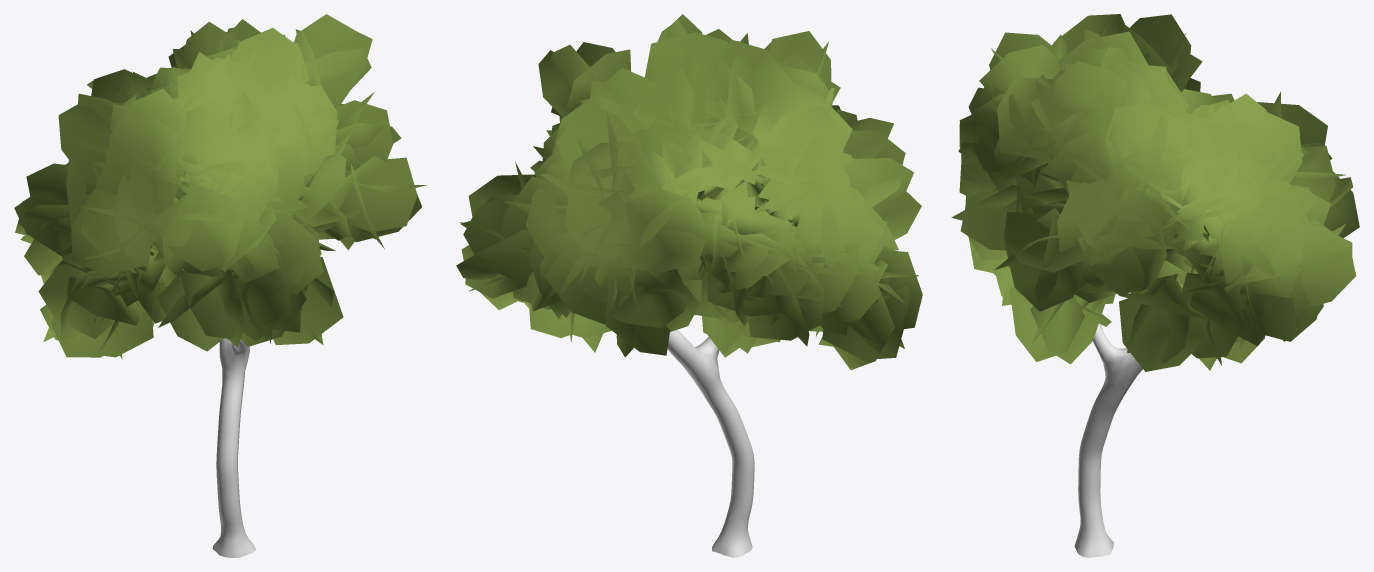
The model's file is tree_test01.fbx.
3 renders of one model, left to right at view 1: azimuth 30°, elevation 25°; view 2: azimuth 150°, elevation 25°; view 3: azimuth 270°, elevation 25°, orthographic. The views are drawn at different scales.
Visible parts, largest first — view 1: tree_test01; view 2: tree_test01; view 3: tree_test01.
Boxes of the visible parts, x1,y1,x2,y2 form: tree_test01: (14,14,426,557); tree_test01: (456,14,922,557); tree_test01: (951,14,1359,557).
Size of the model in its own units: 51106 by 68224 by 48190.
